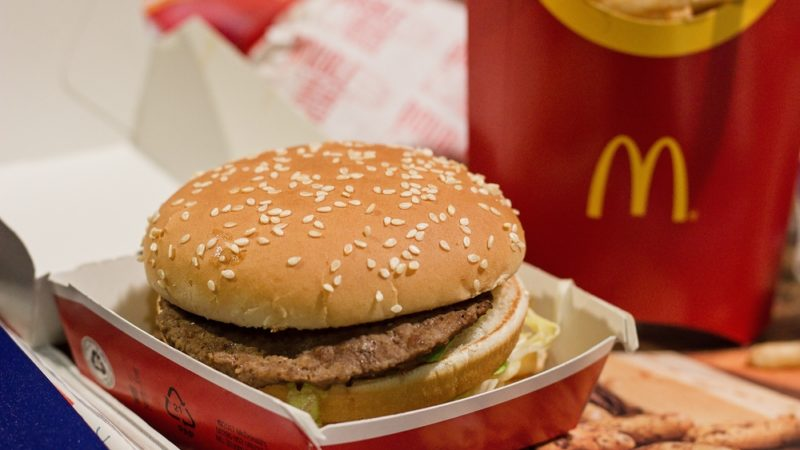mcdonalds: (578, 119, 700, 232)
